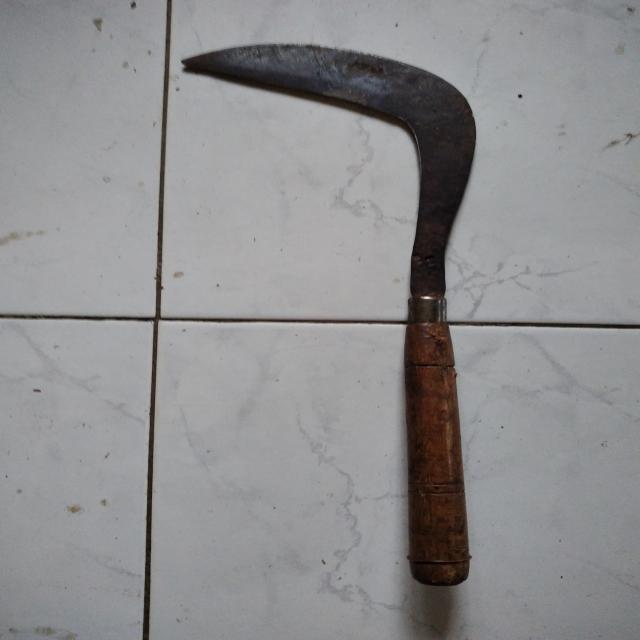Celurit: (184, 42, 485, 587)
